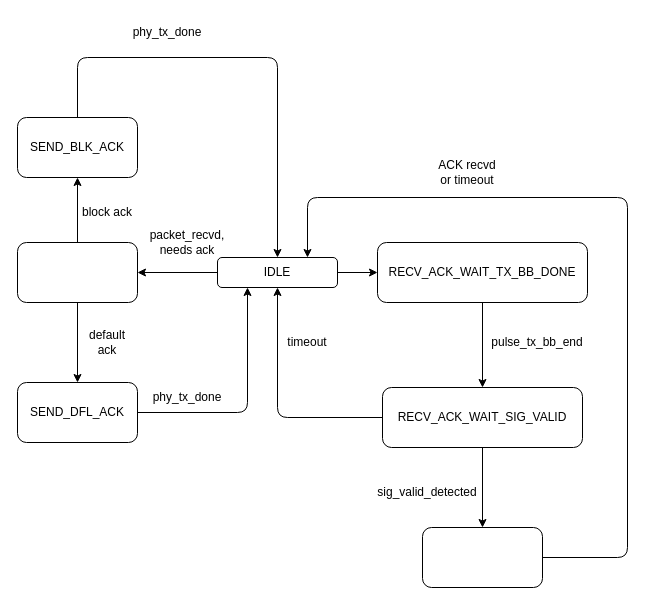
This 653x605 diagram has some shape labels left out. The centre of each missing label's shape, as x and y in pixels:
PREP_ACk: the point at 77,272
RECV_ACK: the point at 482,557
